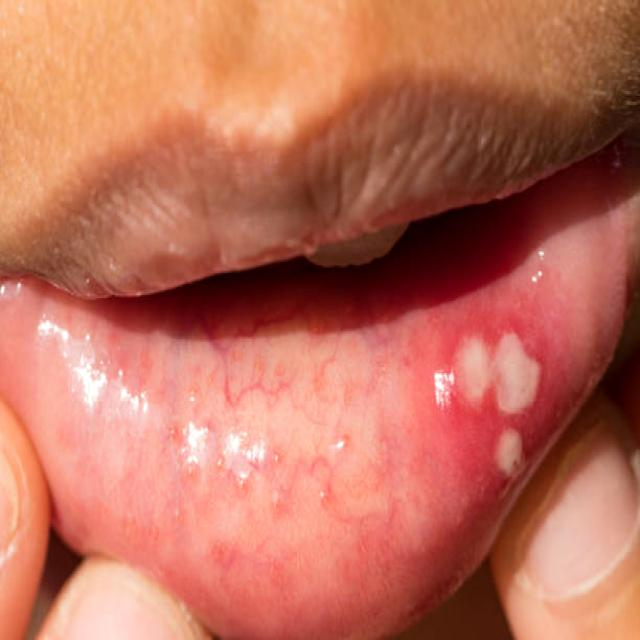ulcer: (496, 334, 539, 413), (456, 339, 488, 398), (495, 430, 521, 475)
